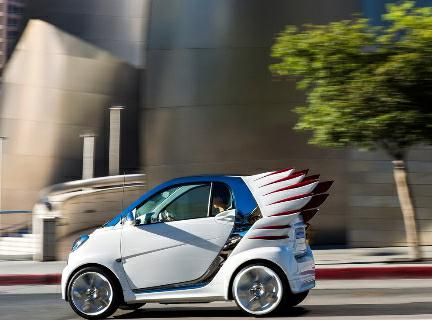smart-forjeremy: (68, 176, 314, 315)
